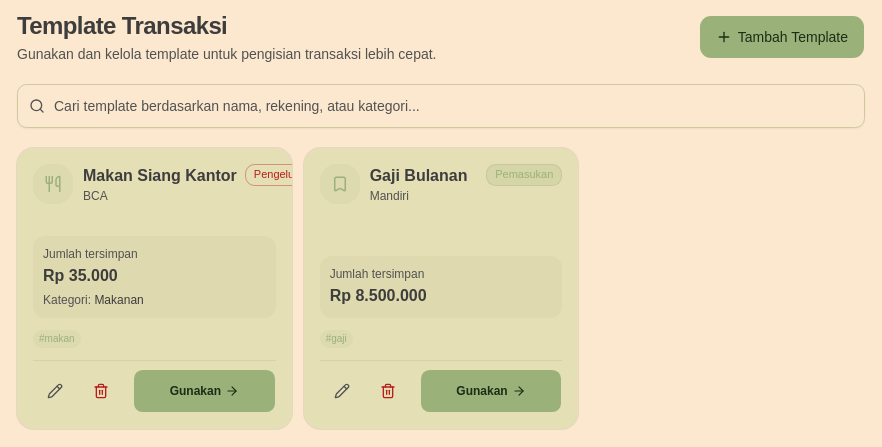
Scenario: TemplatesPage › filters templates by search term
The image size is (882, 447).
Type "Gaji" into the field with placeholder "Cari template berdasarkan nama, rekening, atau kategori..." at [441, 106], box [17,84,865,128]
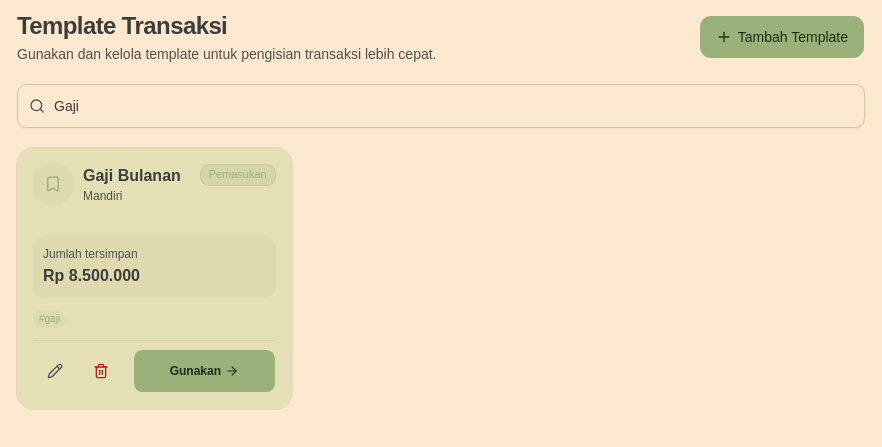
Expected: the text "Gaji Bulanan" is shown, [83,164,181,188]
Result: the text "Makan Siang Kantor" is gone
